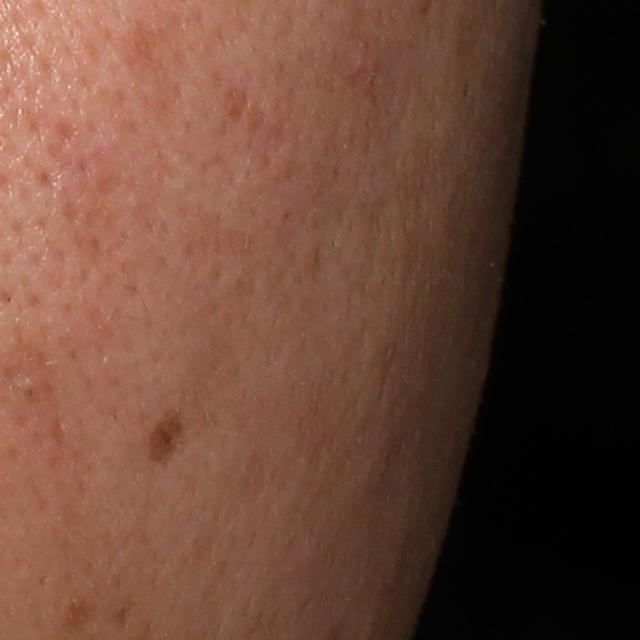nevus: (146, 410, 193, 474)
